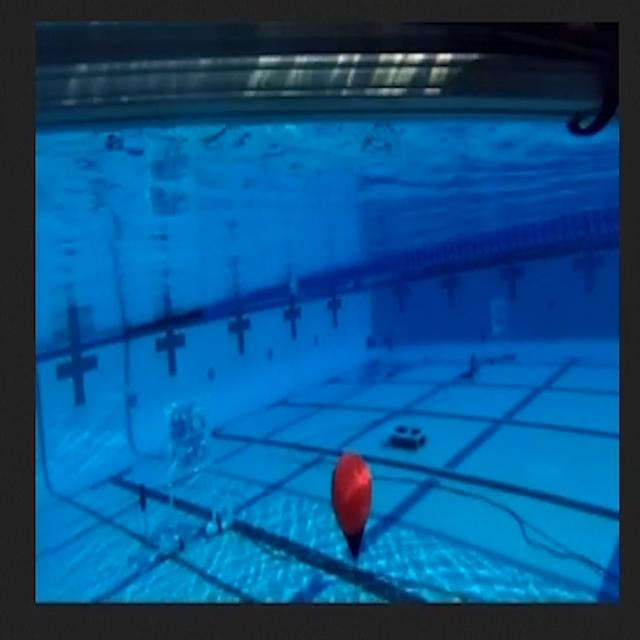Buoy: (328, 458, 378, 562)
